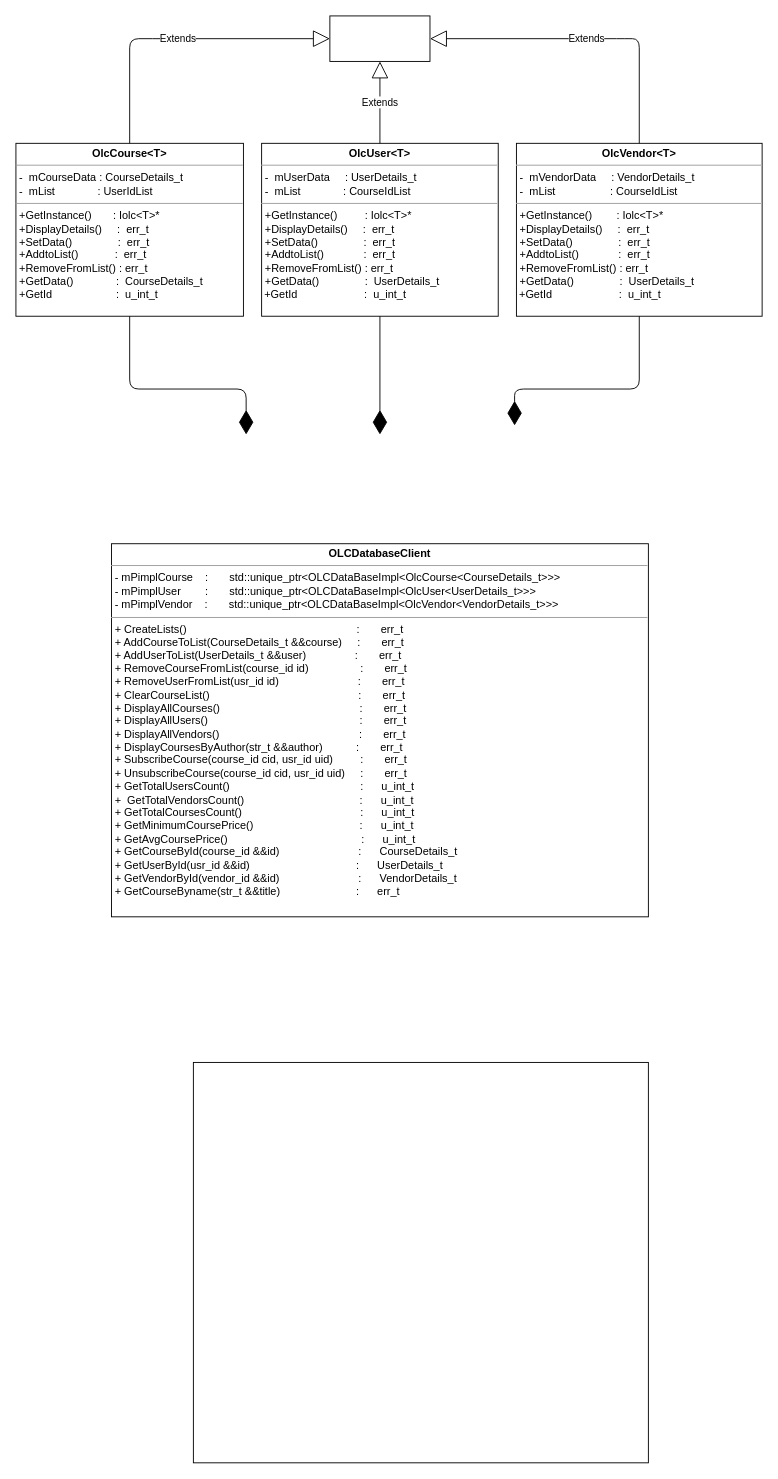
Image size: 778x1479. Some labels were removed from this diagram. Here are the shapes that lost their labels. From the top down, the box of each, then its label:
(329, 15, 430, 61): «interface» IOlc<T>
(192, 1062, 648, 1463): OLCDatabaseImpl<T> + field: Type + method(): Type
